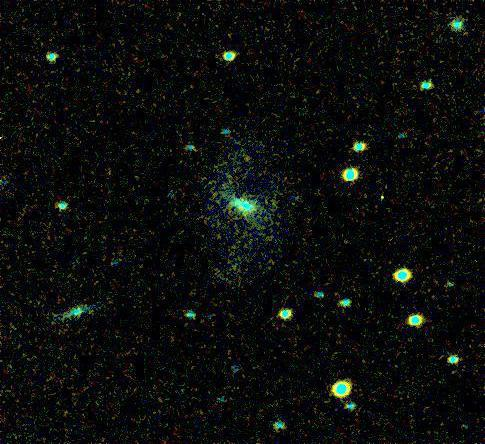star: (231, 143, 261, 173)
